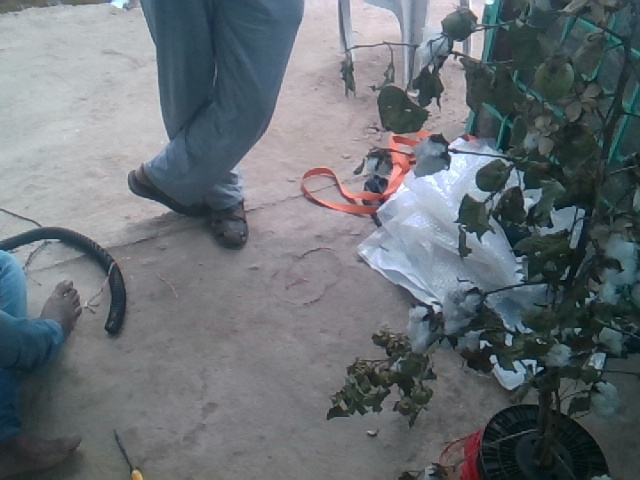cotton: (443, 281, 480, 334), (604, 236, 640, 289), (410, 133, 449, 177), (590, 377, 618, 421), (406, 303, 431, 352), (417, 24, 448, 62), (544, 343, 570, 368)
